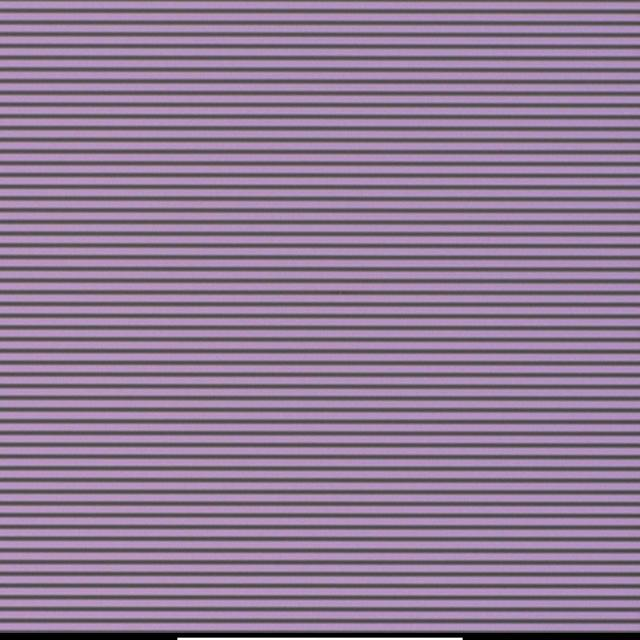03_intrusion: (335, 288, 347, 300)
